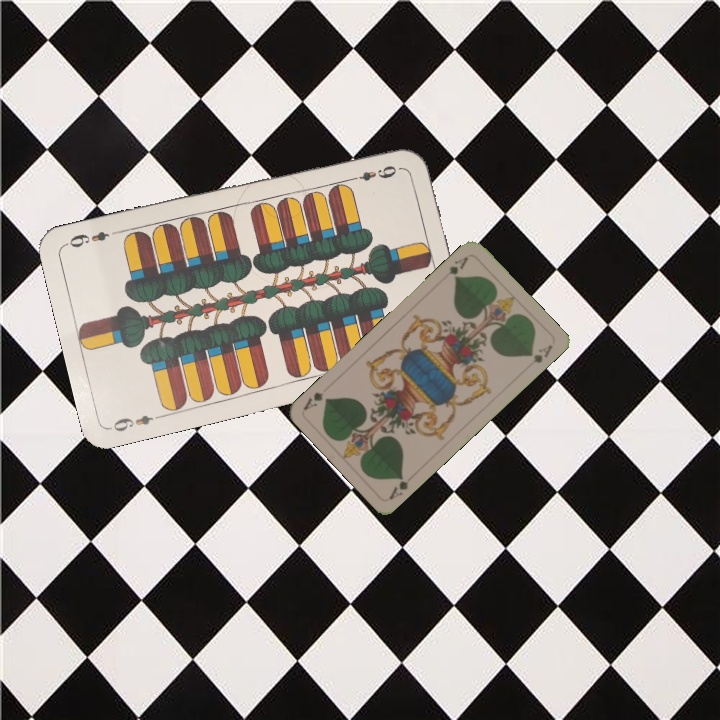E9: (106, 411, 165, 435), (344, 161, 403, 184)
GA: (385, 471, 411, 502), (445, 252, 471, 281)
